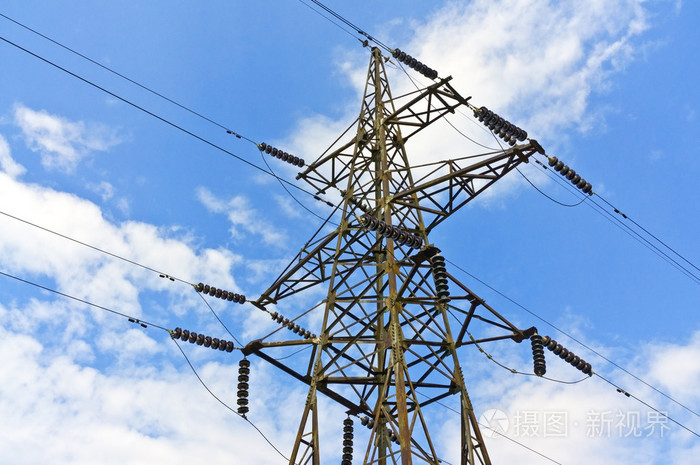insulator: (474, 106, 530, 146), (358, 215, 423, 248), (544, 335, 592, 375), (550, 155, 593, 195), (170, 327, 234, 352), (393, 47, 439, 80), (257, 142, 305, 168), (272, 313, 316, 340), (429, 250, 451, 304), (195, 282, 245, 302), (236, 359, 251, 413), (529, 331, 547, 375), (339, 419, 355, 465)
